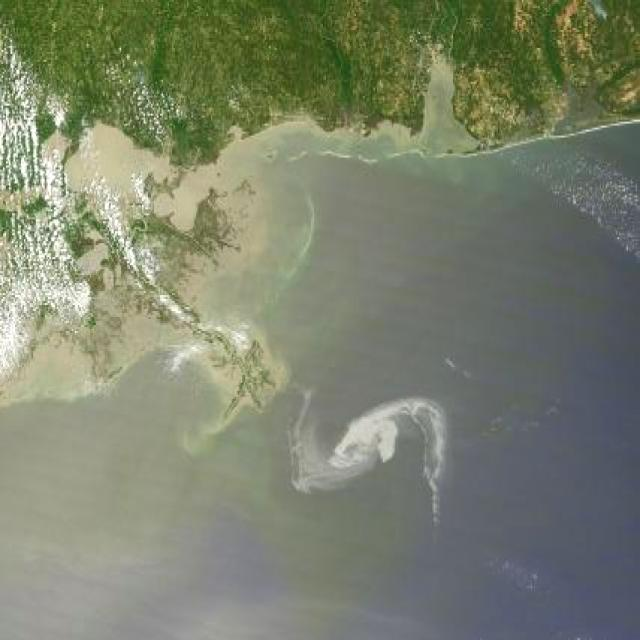algal: (24, 451, 216, 572), (291, 505, 414, 592)
oil spill: (289, 391, 447, 522)
